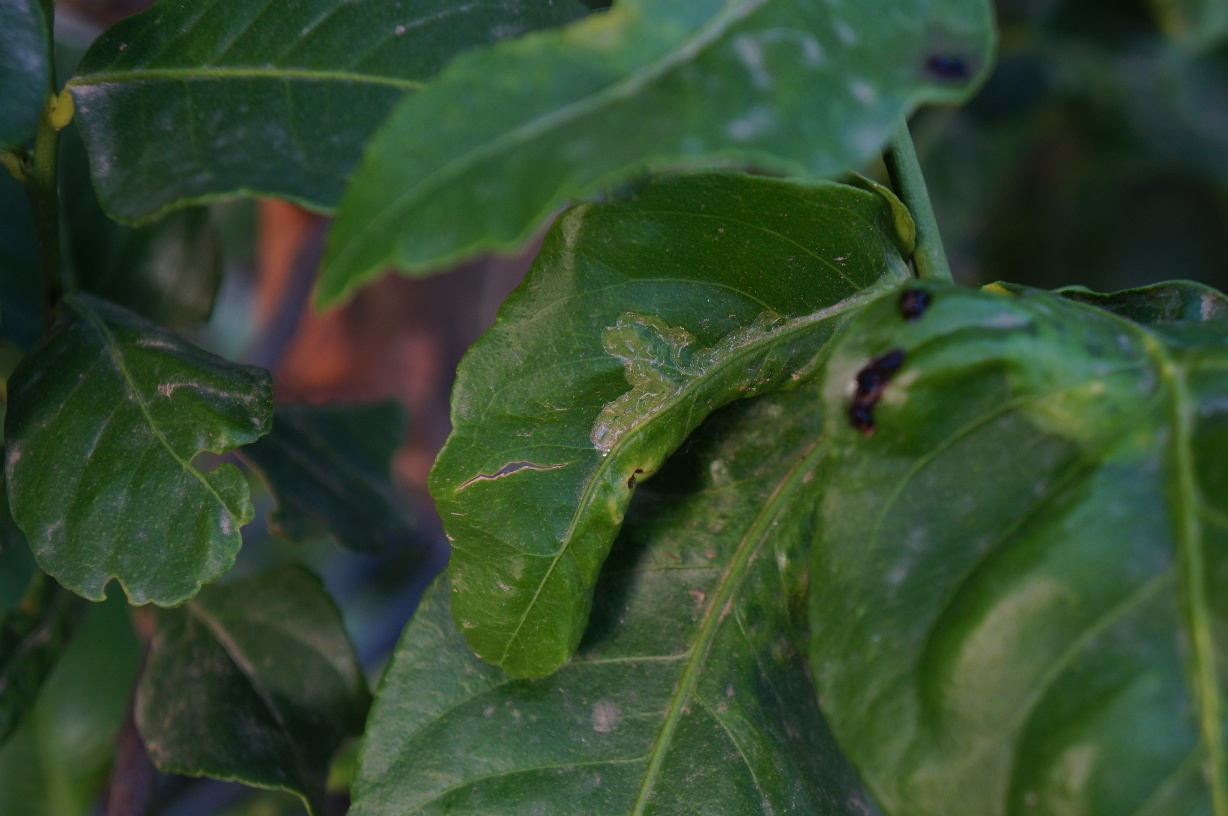damage: (579, 283, 856, 466)
